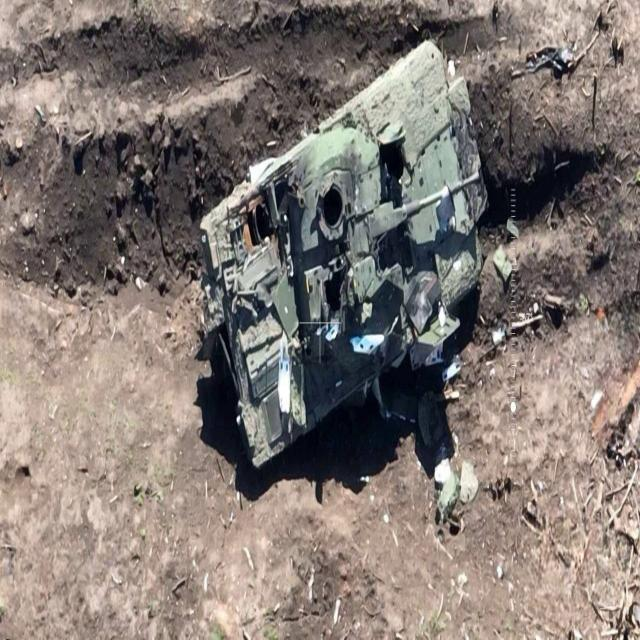AIFV: (199, 42, 489, 476)
